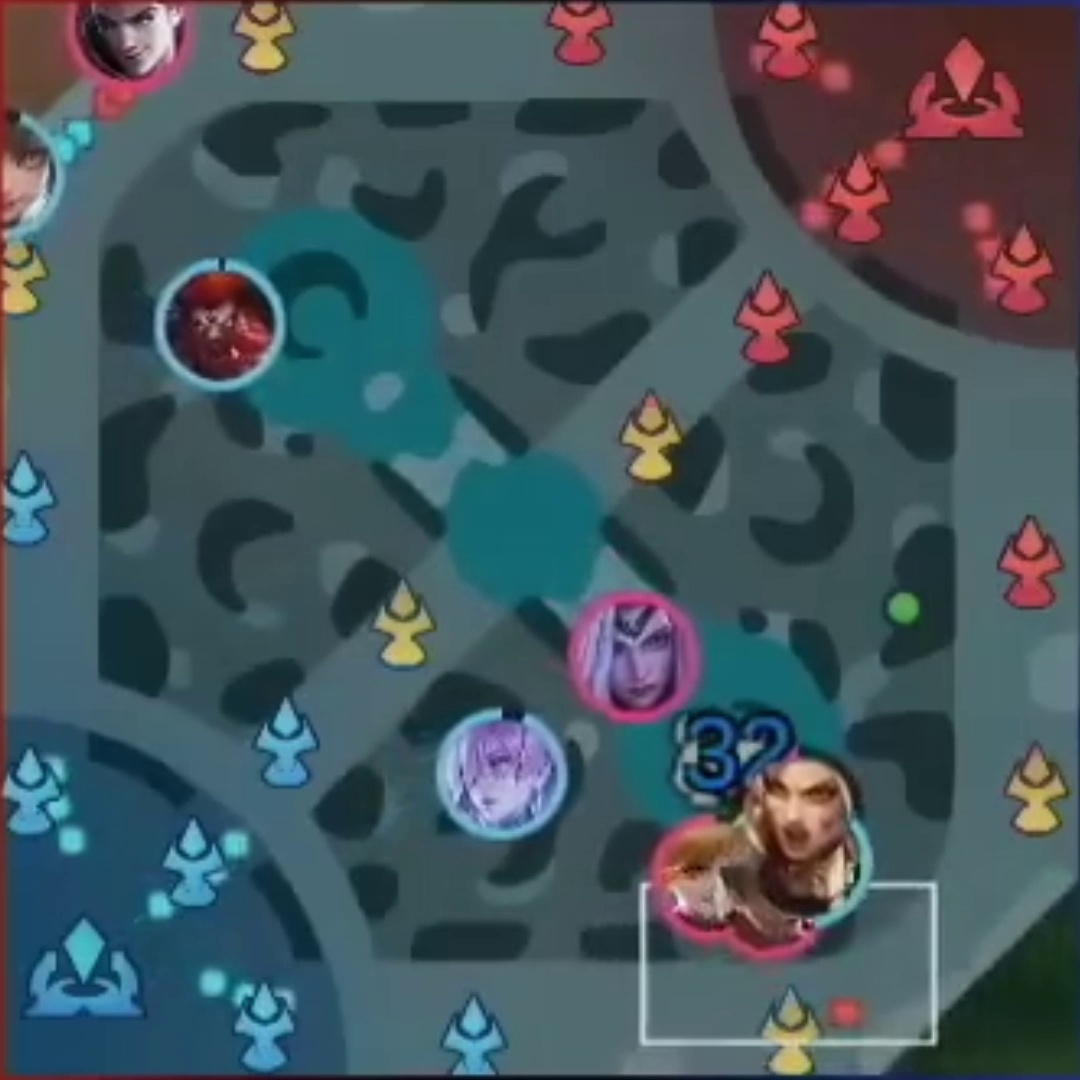Claude: (90, 1, 170, 80)
Fanny: (665, 836, 720, 922)
Lapu-Lapu: (762, 860, 861, 914)
Masha: (756, 763, 833, 854)
Minotaur: (178, 278, 268, 380)
Novaria: (454, 722, 551, 825)
Valentina: (587, 611, 673, 707)
Wanwan: (6, 124, 51, 236)
